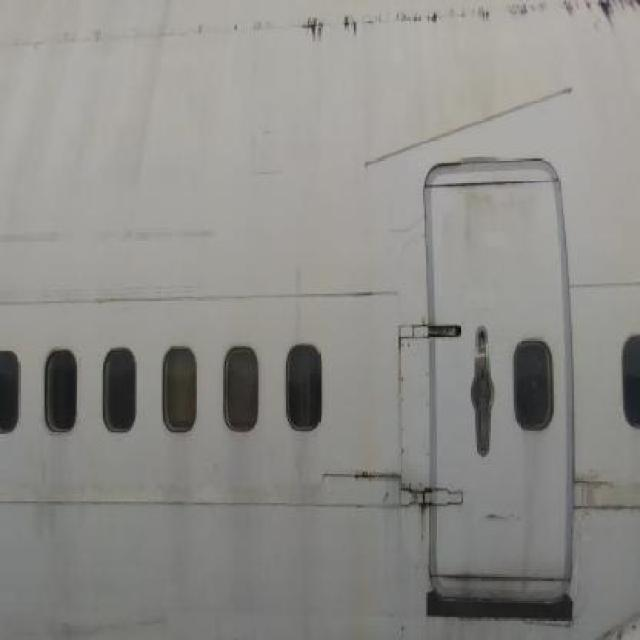Rust: (351, 312, 384, 488), (347, 504, 378, 640)
Scartch: (1, 202, 81, 267), (43, 604, 180, 640), (94, 218, 226, 255)
